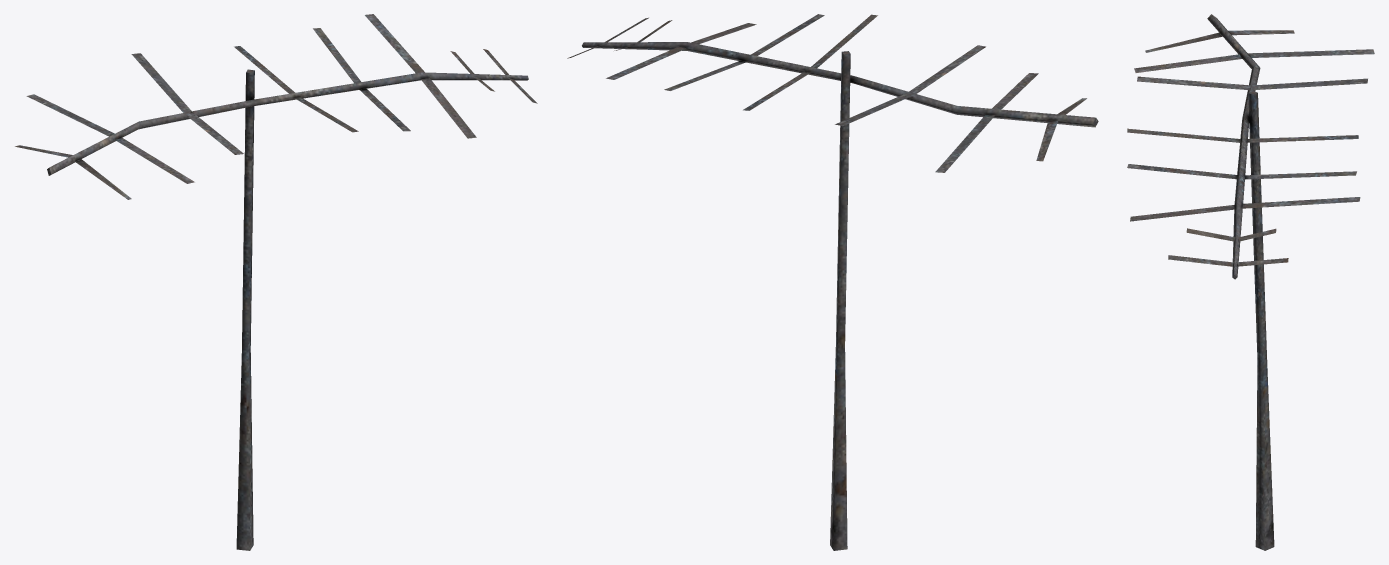
File: Antenna_01.FBX
The picture shows the model from 3 angles, left to right: view 1: azimuth 30°, elevation 25°; view 2: azimuth 150°, elevation 25°; view 3: azimuth 270°, elevation 25°; orthographic projection. The views are drawn at different scales.
Visible parts, largest first — view 1: Antenna_01; view 2: Antenna_01; view 3: Antenna_01.
Part boxes in pixels (<box>): Antenna_01: <box>15,14,537,550</box>; Antenna_01: <box>567,14,1098,550</box>; Antenna_01: <box>1127,14,1374,550</box>.
Bounding box in the file's own units: 231 × 217 × 107.
